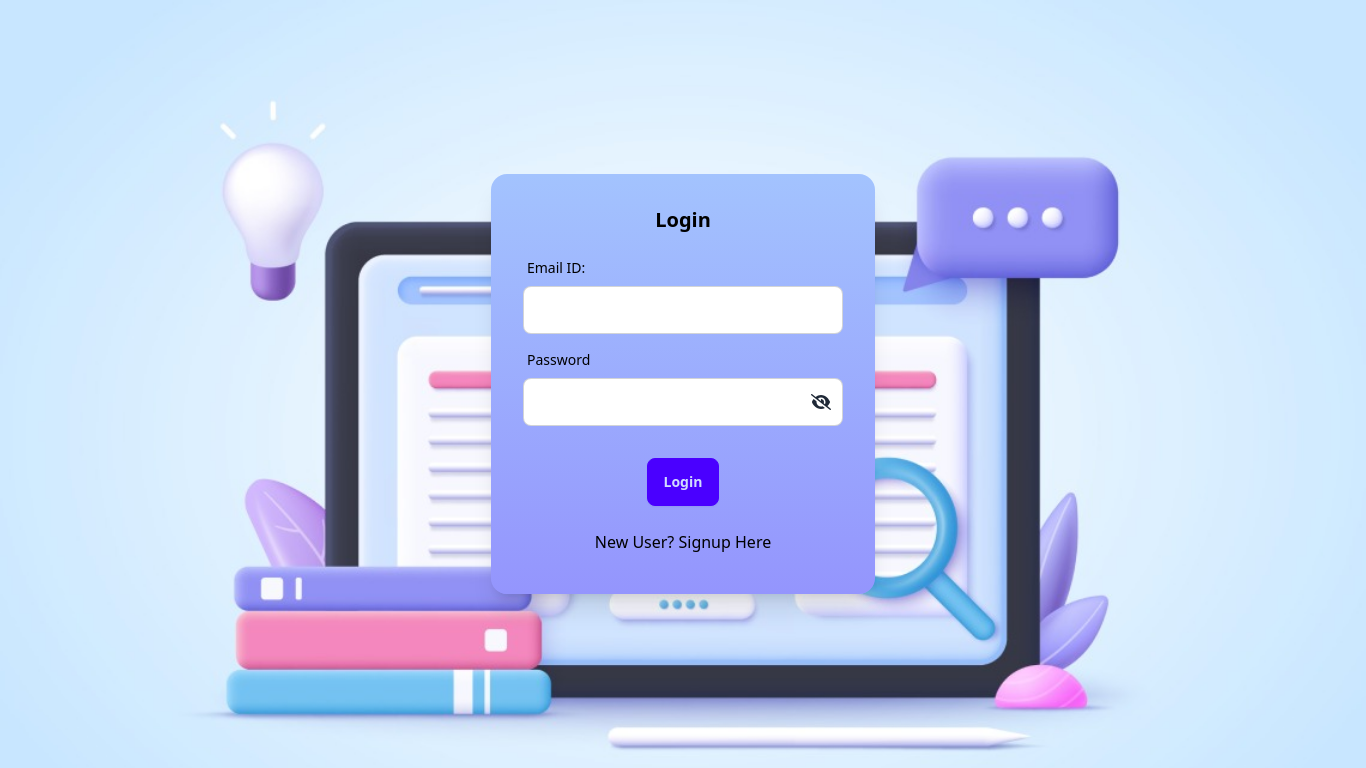
Test case: Login Component › validates email and password on login
# Trigger Login without entering email or password
What coordinates should you click on to do the following:
click the button "Login"
I would click on:
 (683, 482)
Its box is [646,458,719,506].
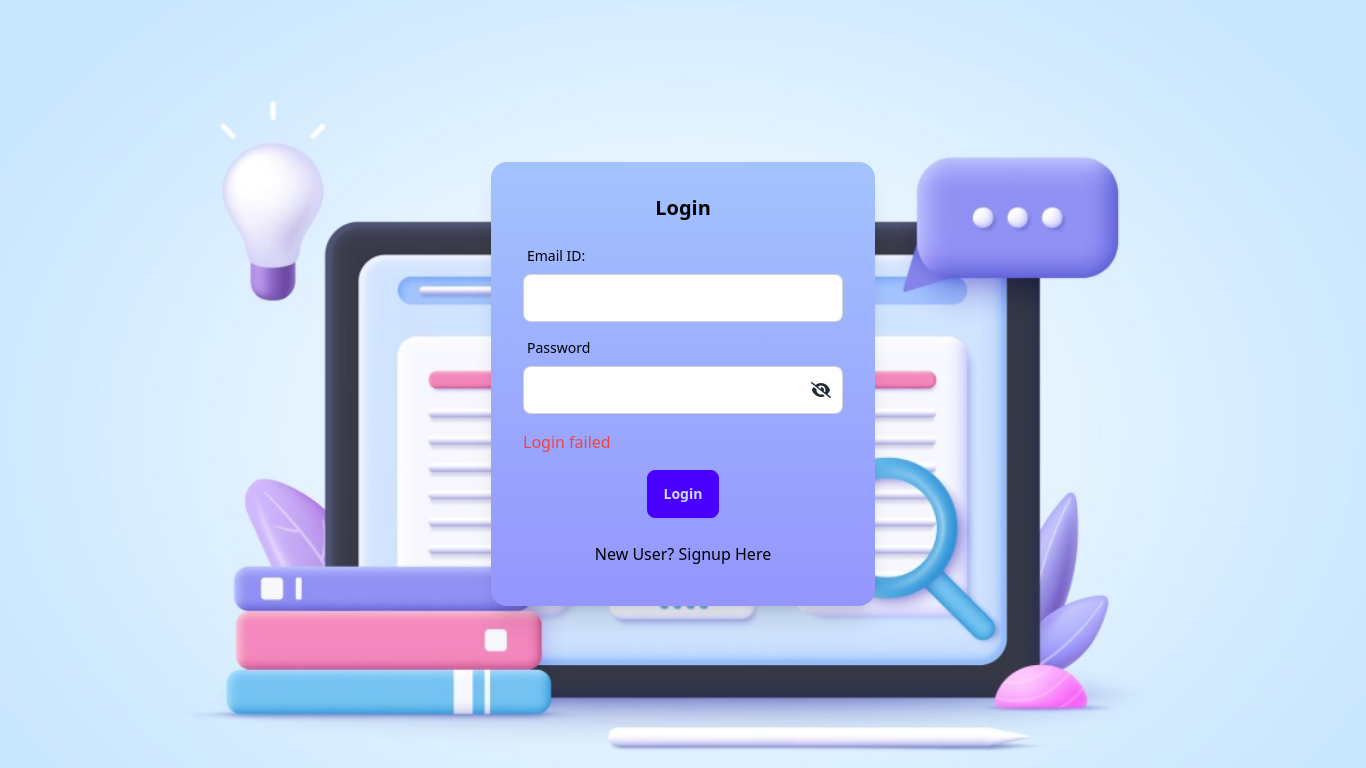
Result: the text "Login failed" is shown at [523,431,611,453]
